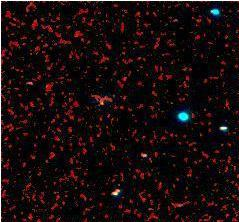star: (80, 84, 110, 114)
